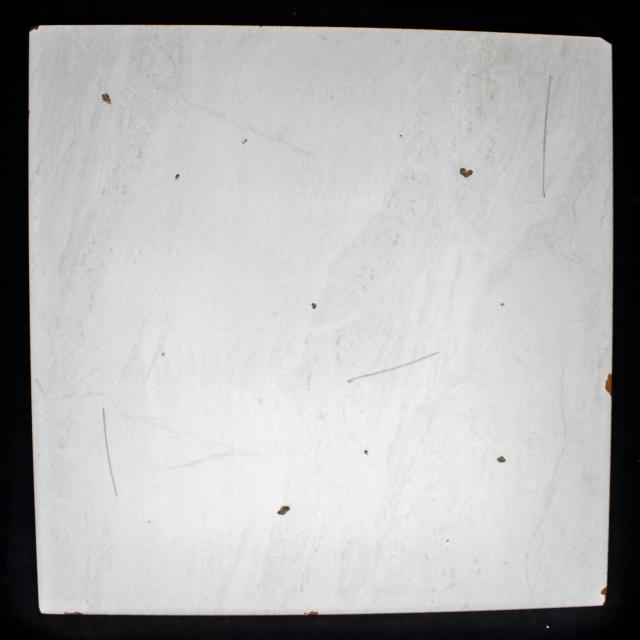edge-chipping: (605, 373, 613, 397), (600, 586, 607, 606), (600, 37, 612, 45), (64, 611, 83, 615), (29, 25, 39, 32), (305, 611, 319, 615)
hole: (101, 92, 112, 105), (460, 168, 473, 178), (278, 506, 290, 515), (497, 456, 506, 463), (242, 138, 248, 144), (175, 174, 180, 180), (312, 303, 316, 309), (364, 450, 369, 454), (162, 352, 166, 357), (398, 134, 402, 137)
line: (348, 352, 439, 382), (102, 408, 118, 496), (542, 75, 552, 196)
